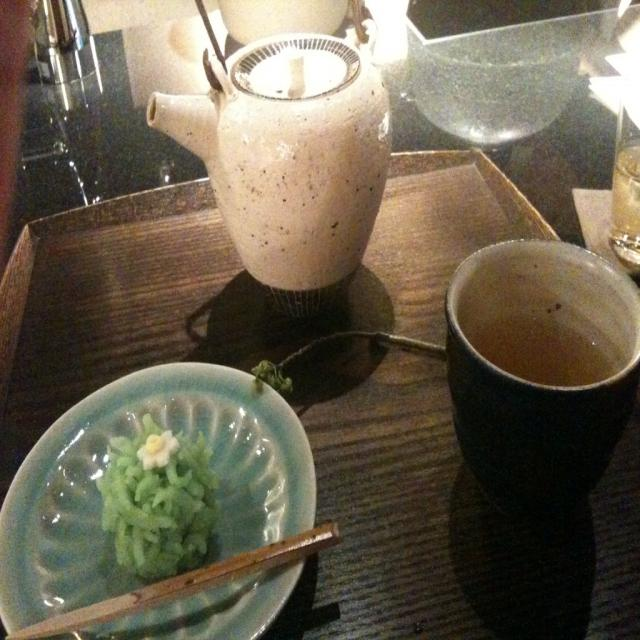Coffee: (466, 311, 622, 387)
